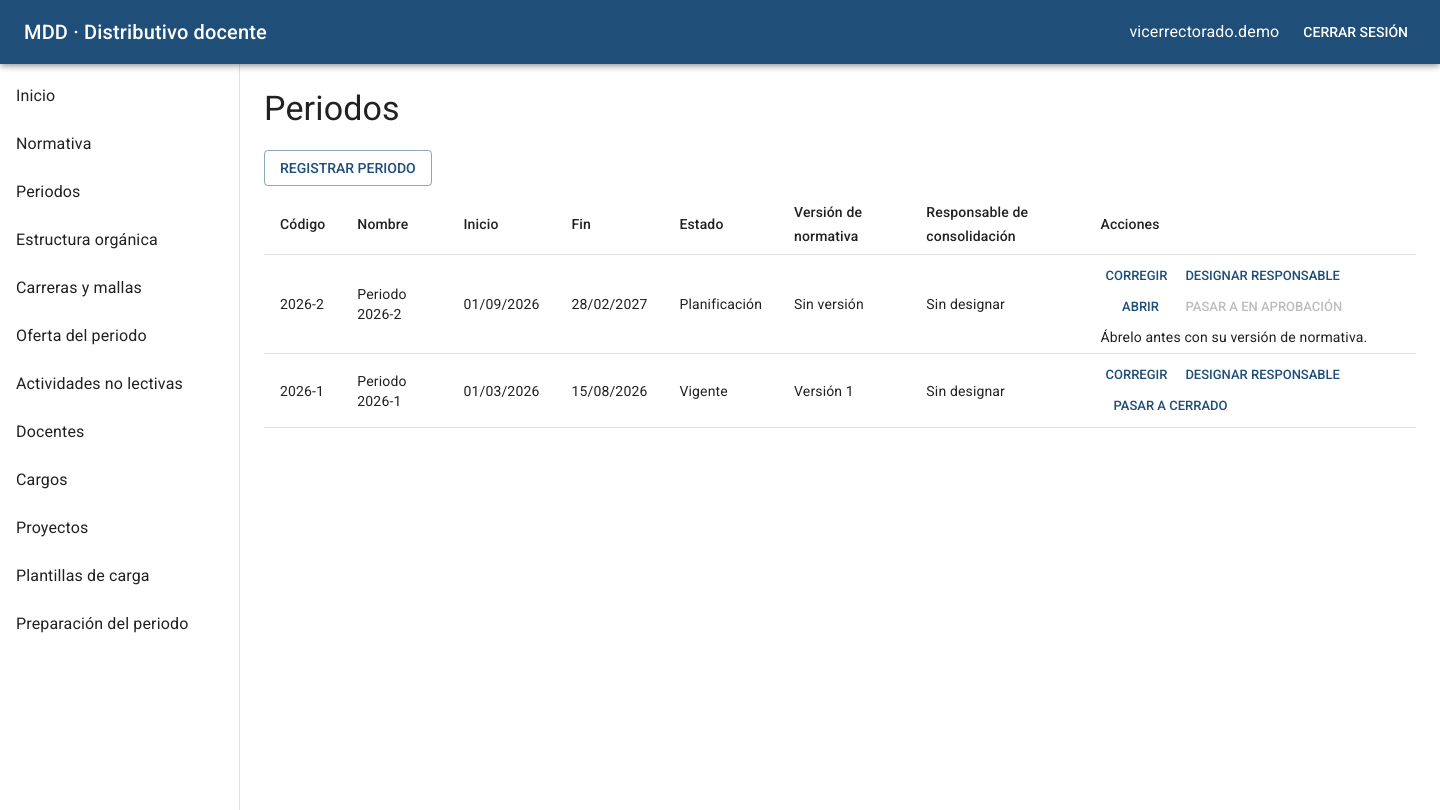
Test: Periodos › abre un periodo eligiendo su versión de normativa de la lista
Click the button with aria-label "Abrir 2026-2".
click(1140, 308)  # box [1108,292,1172,323]
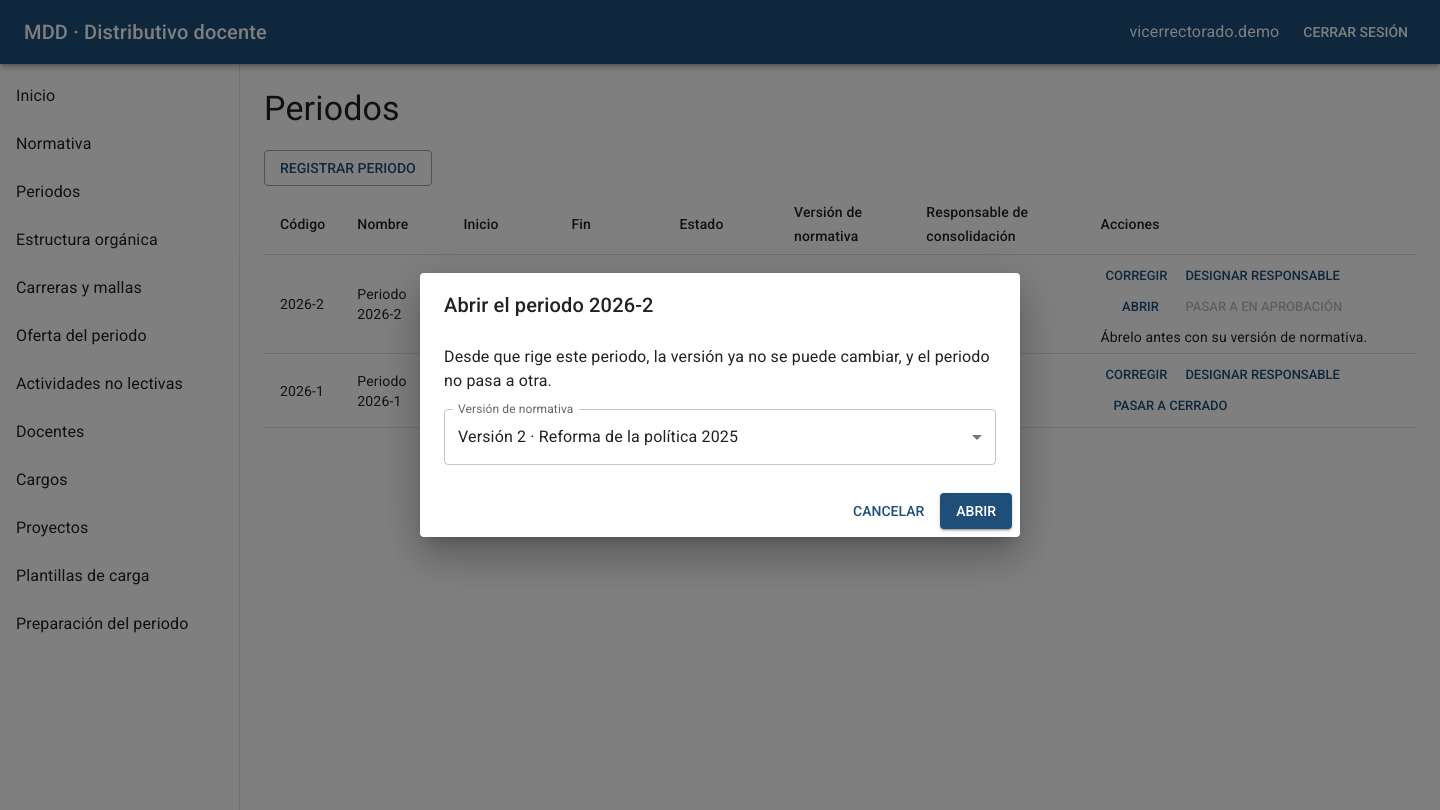
Result: the dialog "Abrir el periodo 2026-2" shows "la versión ya no se puede cambiar" at [444,347,990,390]
Select "Versión 2 · Reforma de la política 2025" in the dropdown labelled "Versión de normativa" at (720, 437), box [444,409,996,465]
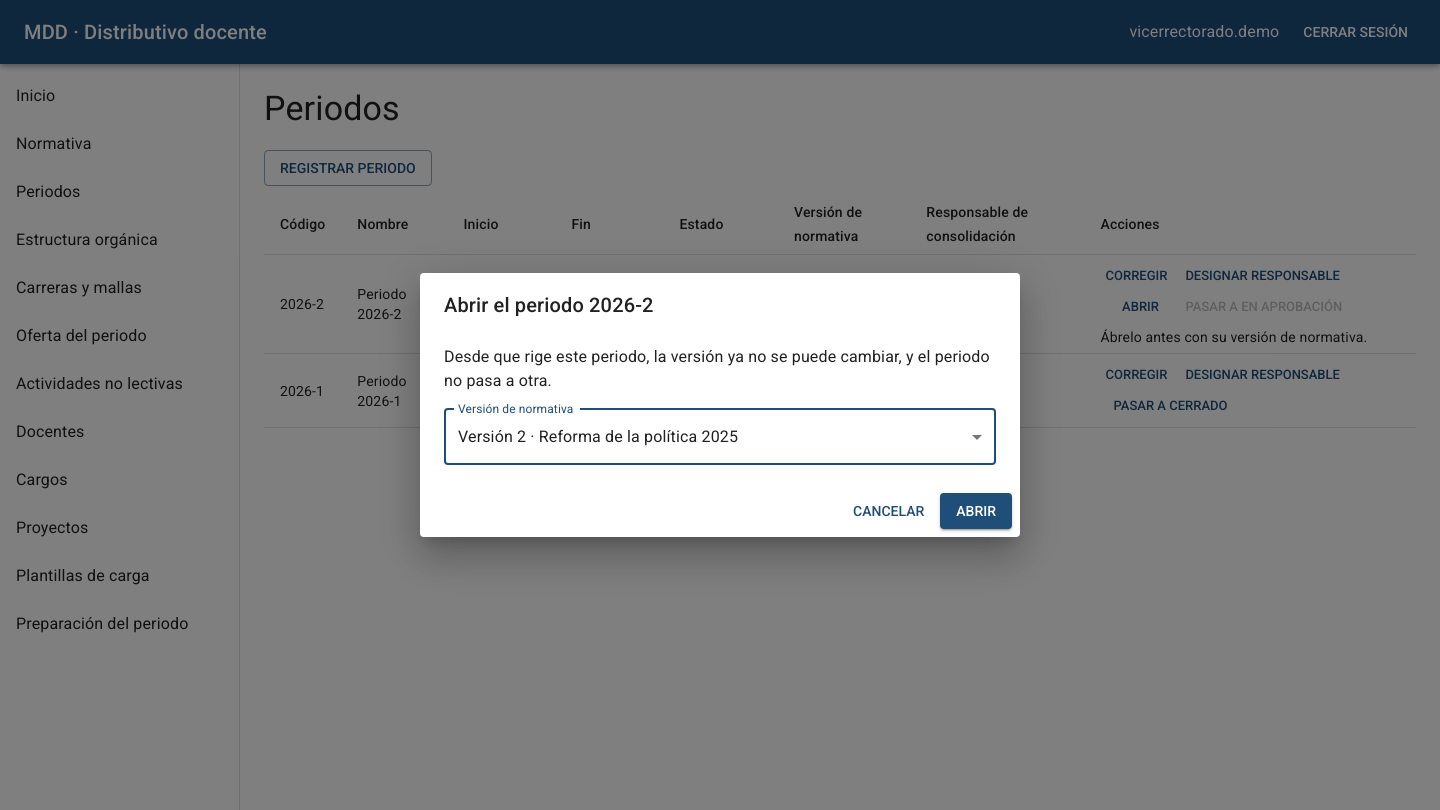
Click the button "Abrir".
click(976, 511)  # box [940,493,1012,529]
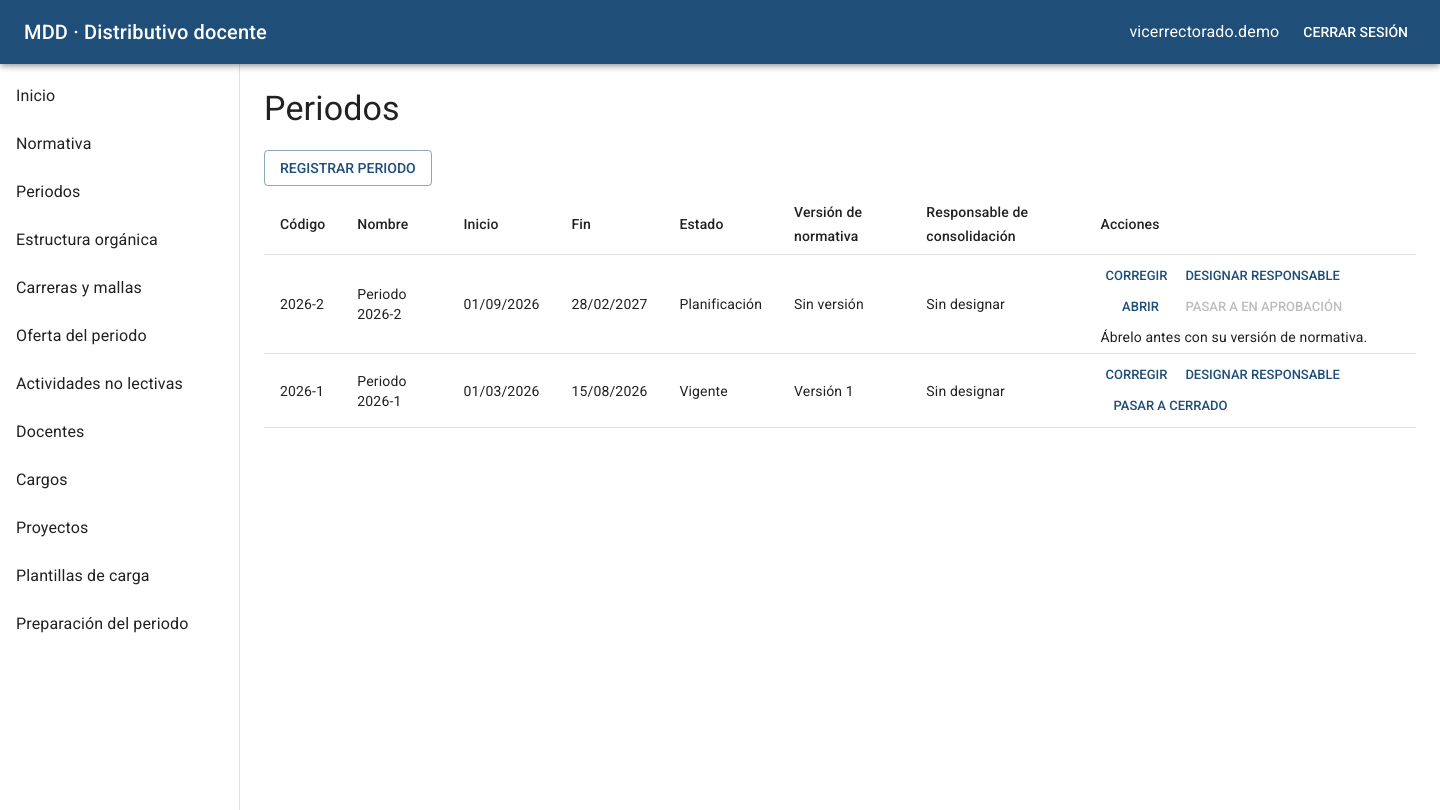
Result: the dialog is gone
